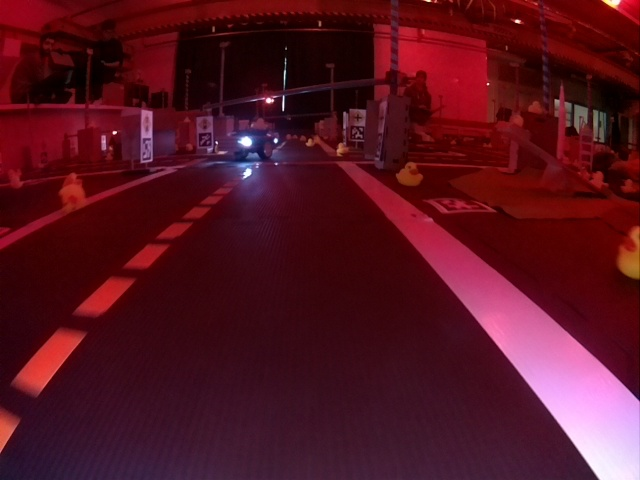Duckie: (616, 226, 638, 281), (397, 162, 423, 180)
Duckiebot: (217, 130, 277, 160)
Intersection sign: (351, 111, 365, 124)
QR code: (141, 137, 152, 162), (374, 134, 384, 160), (350, 127, 364, 140), (199, 133, 212, 147)
Signal sign: (142, 113, 152, 136), (199, 118, 212, 130)
Traffic light: (265, 91, 275, 104)
